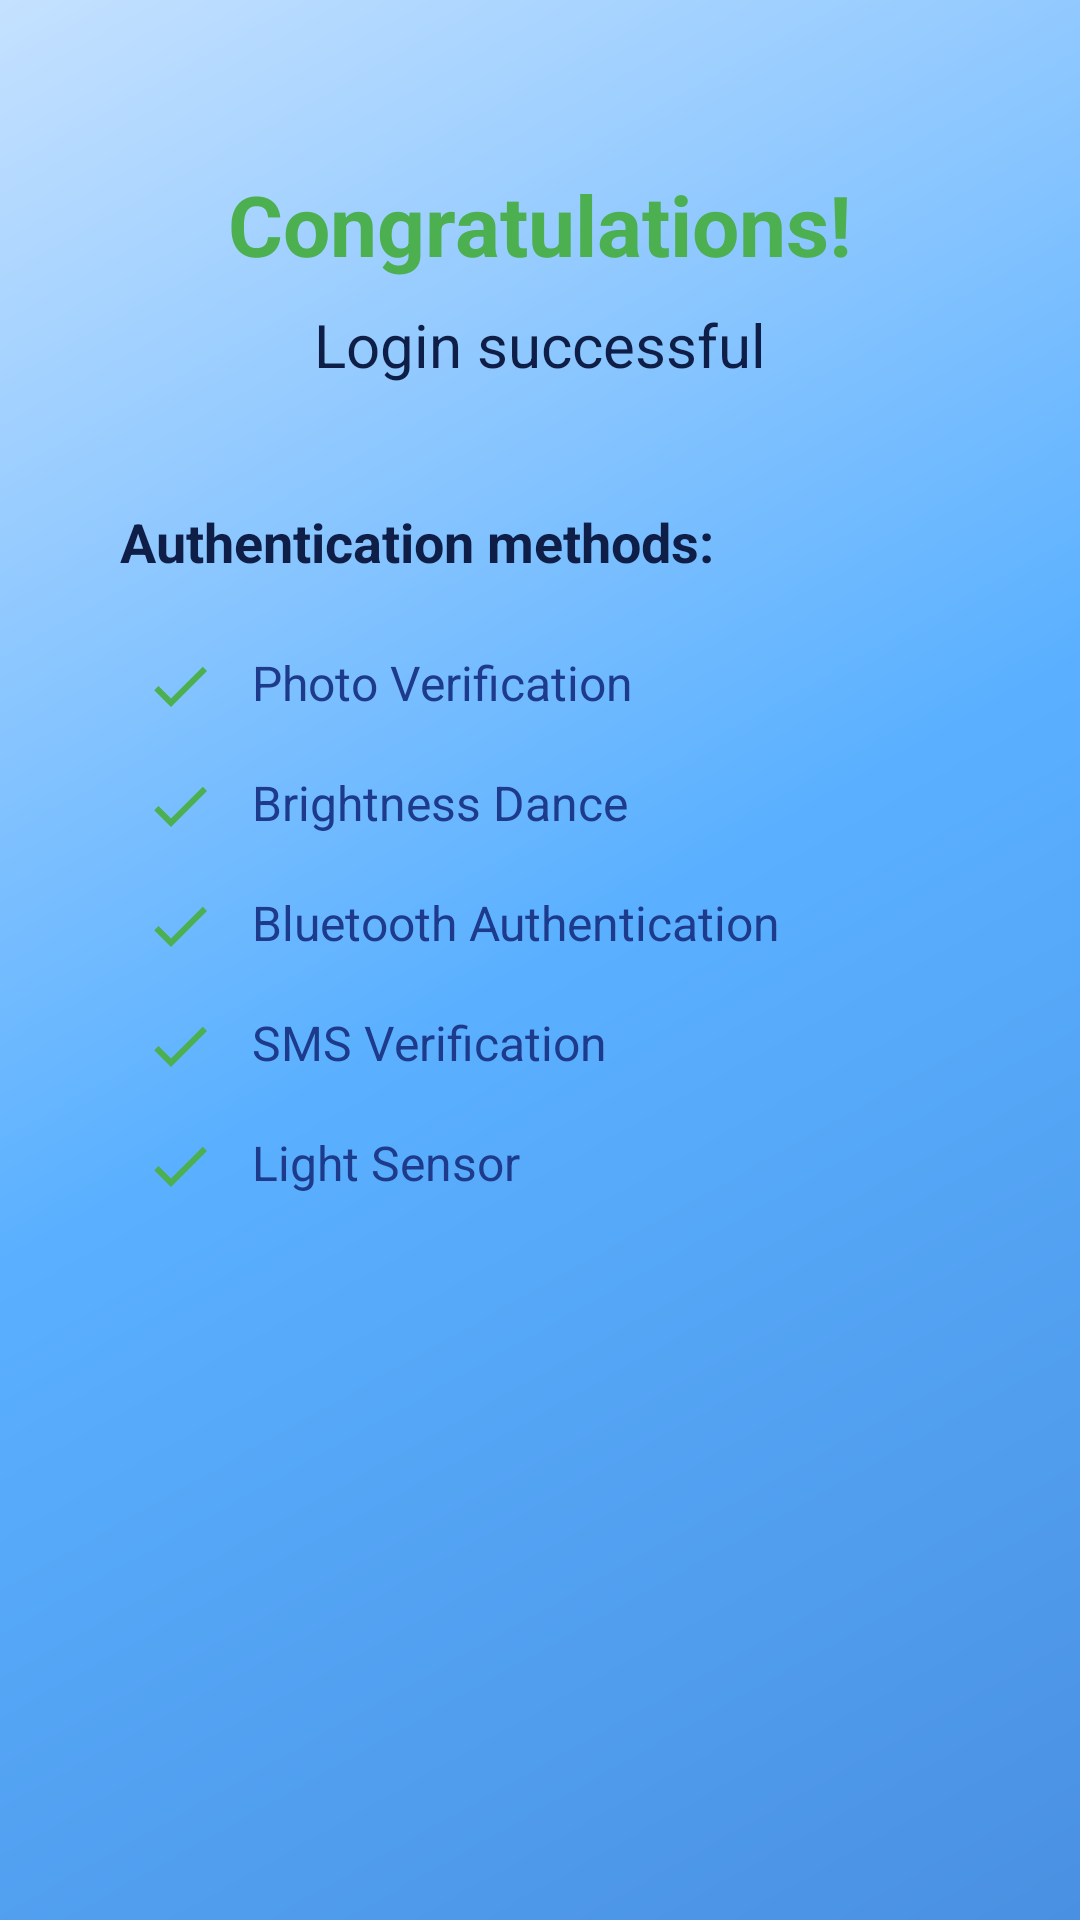

Icons on this 1080 x 1920 Android screen, each with the point to tap as point (x, y):
Verified: point (180, 687), point (180, 807), point (180, 927), point (180, 1047), point (180, 1167)
